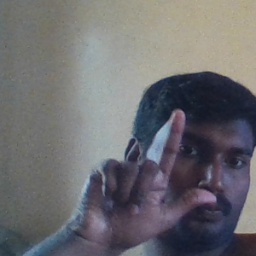L: (75, 108, 217, 248)
